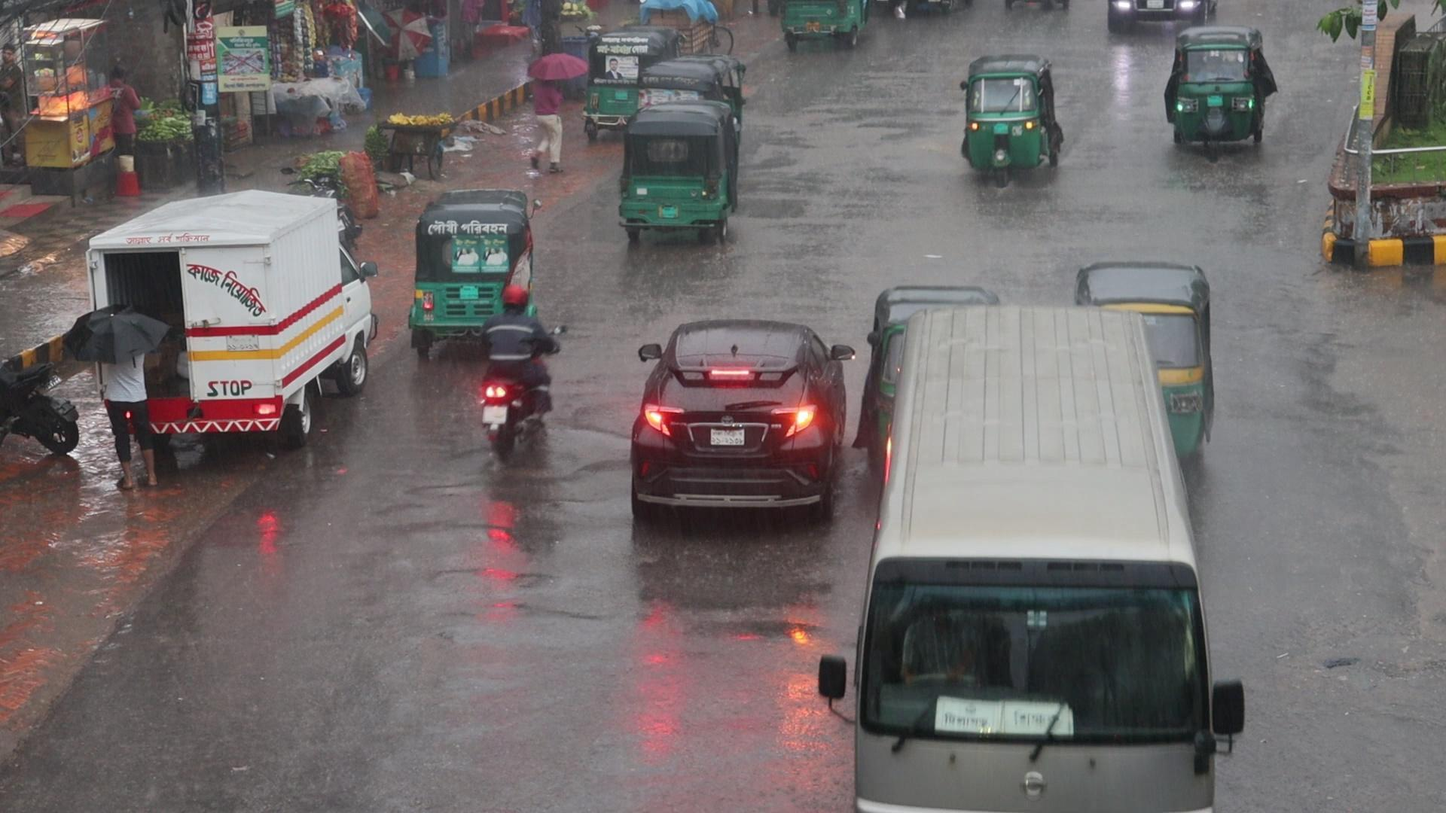Bike: (469, 288, 554, 476)
Bus: (851, 305, 1226, 813)
Car: (629, 315, 845, 529)
